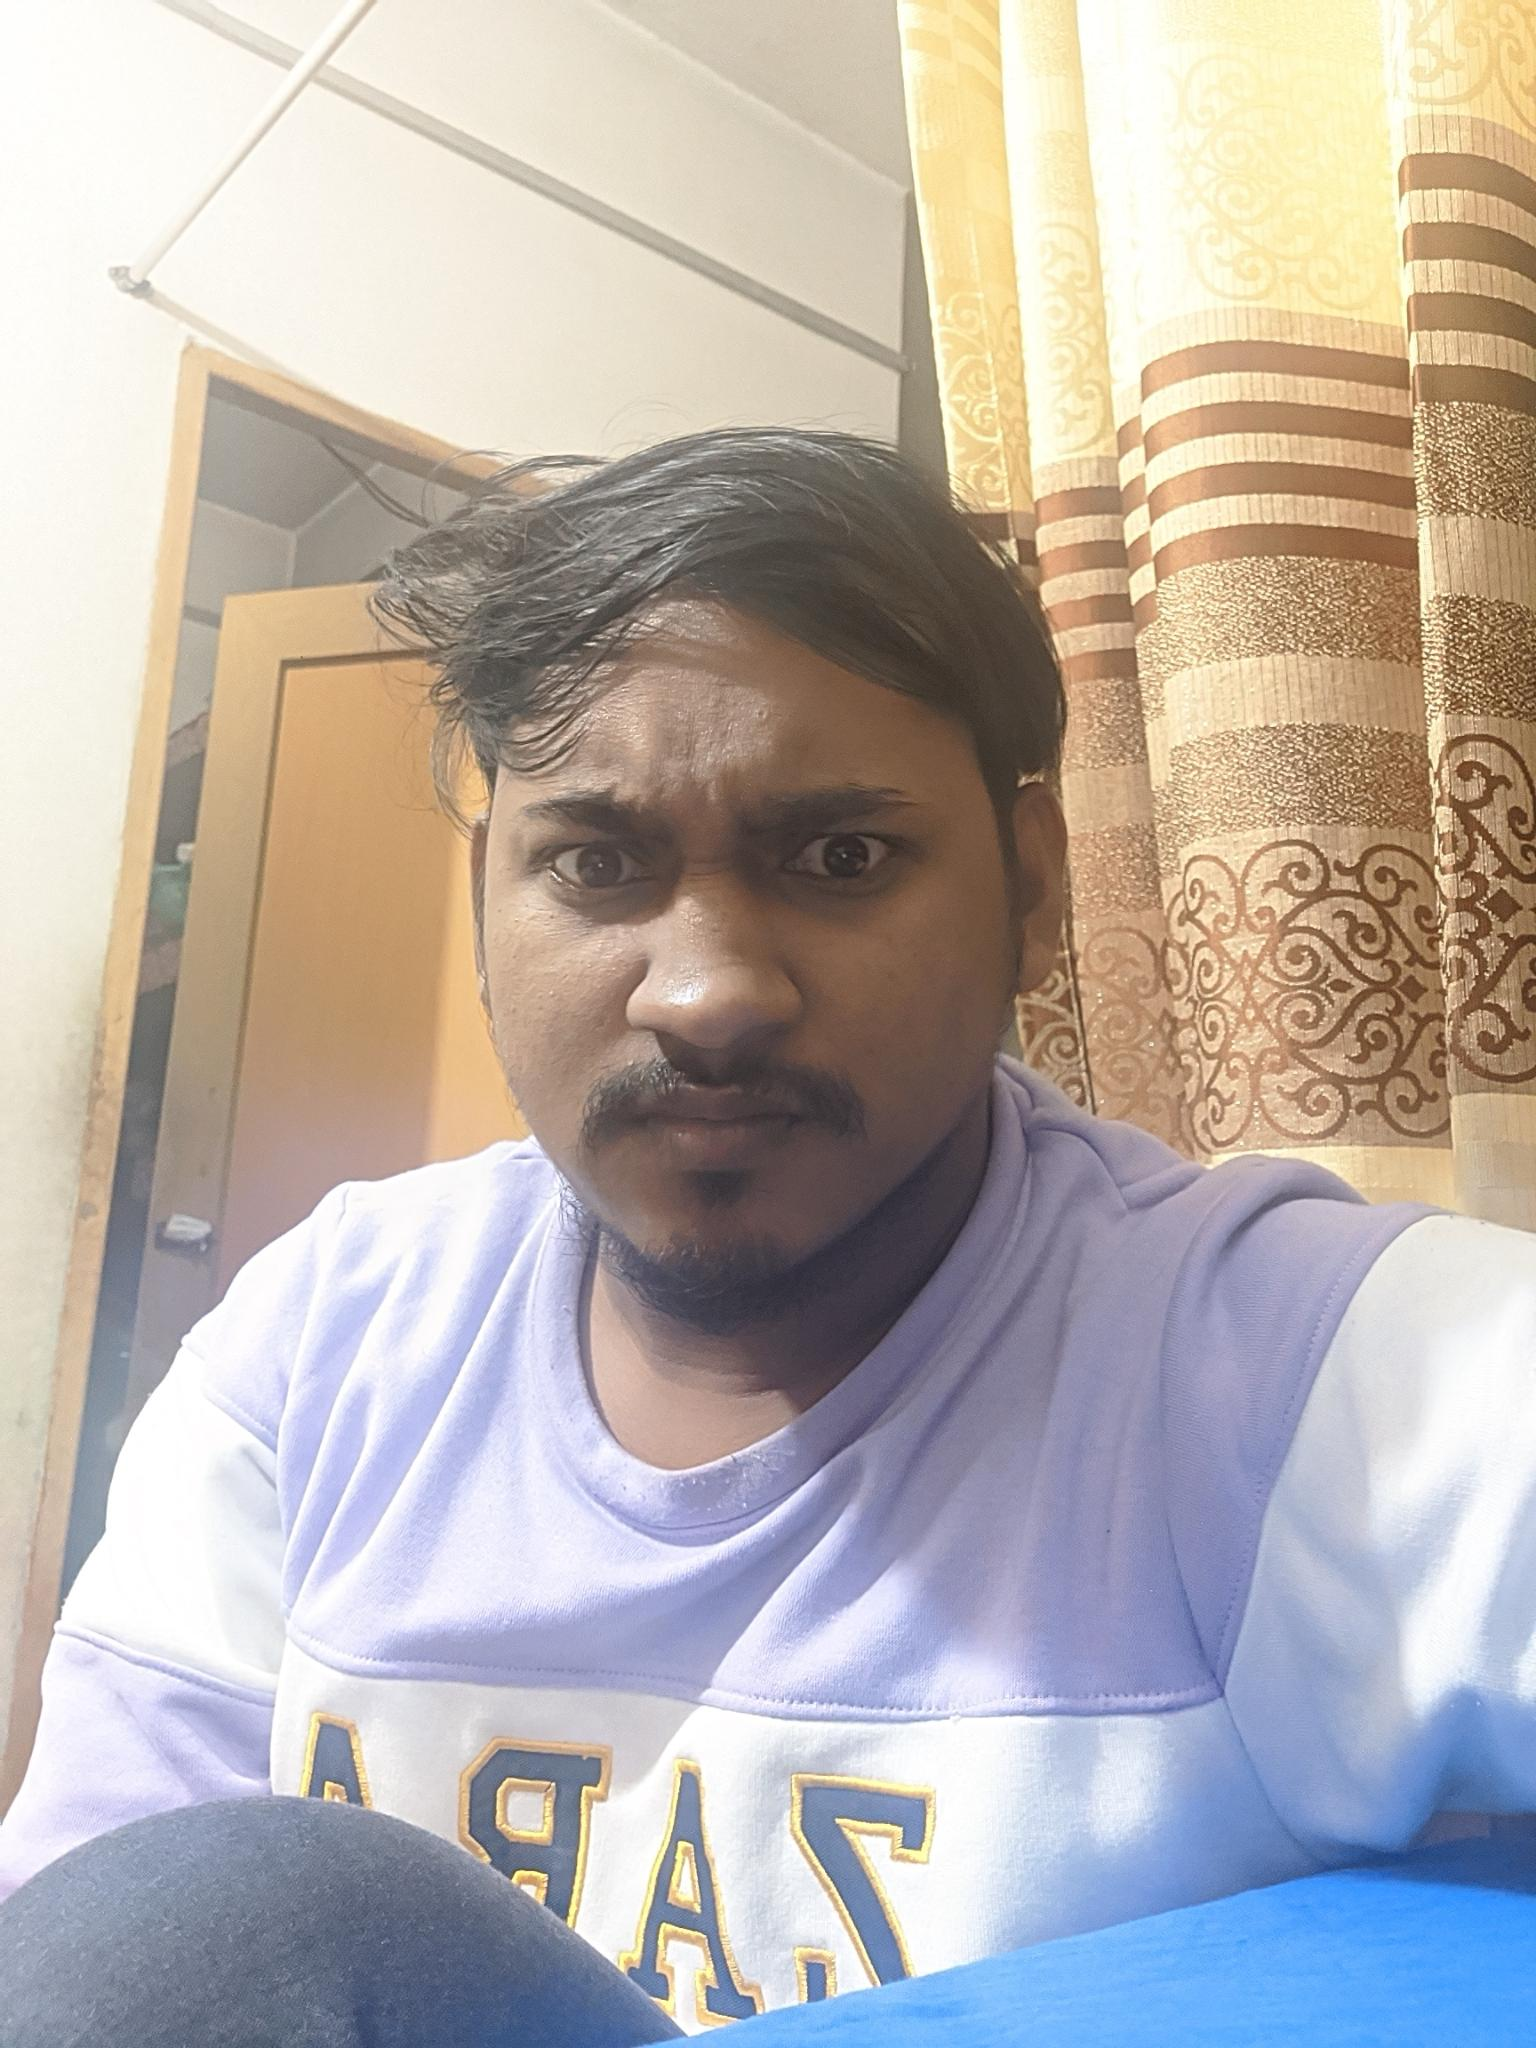Angry: (478, 650, 981, 1317)
